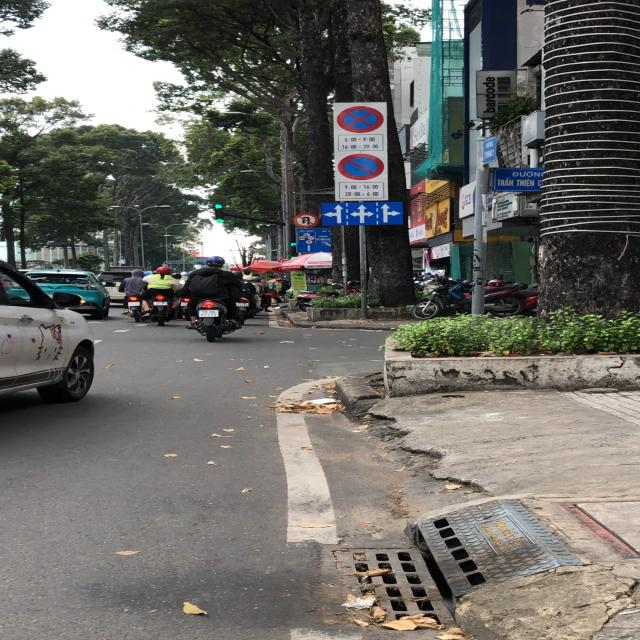Bien bao cam do xe: (339, 153, 388, 180)
Bien bao cam dung xe va do xe: (329, 105, 389, 134)
Bien bao cam quay dau xe: (293, 212, 320, 228)
